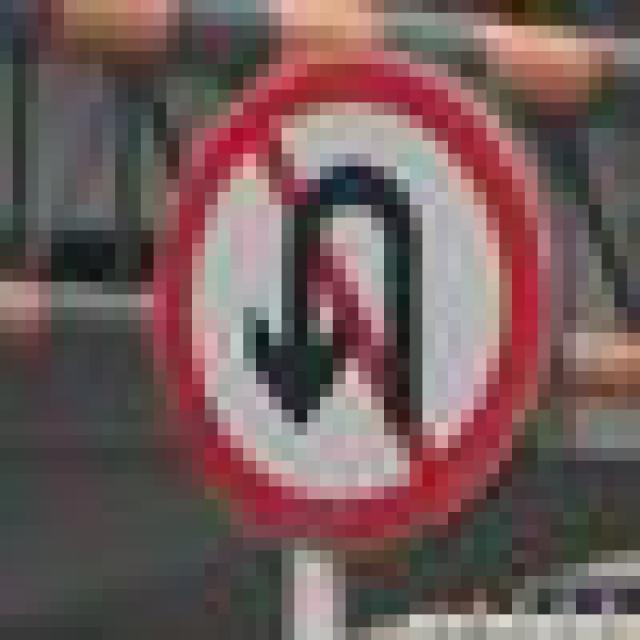u turn prohibited: (143, 50, 558, 550)
